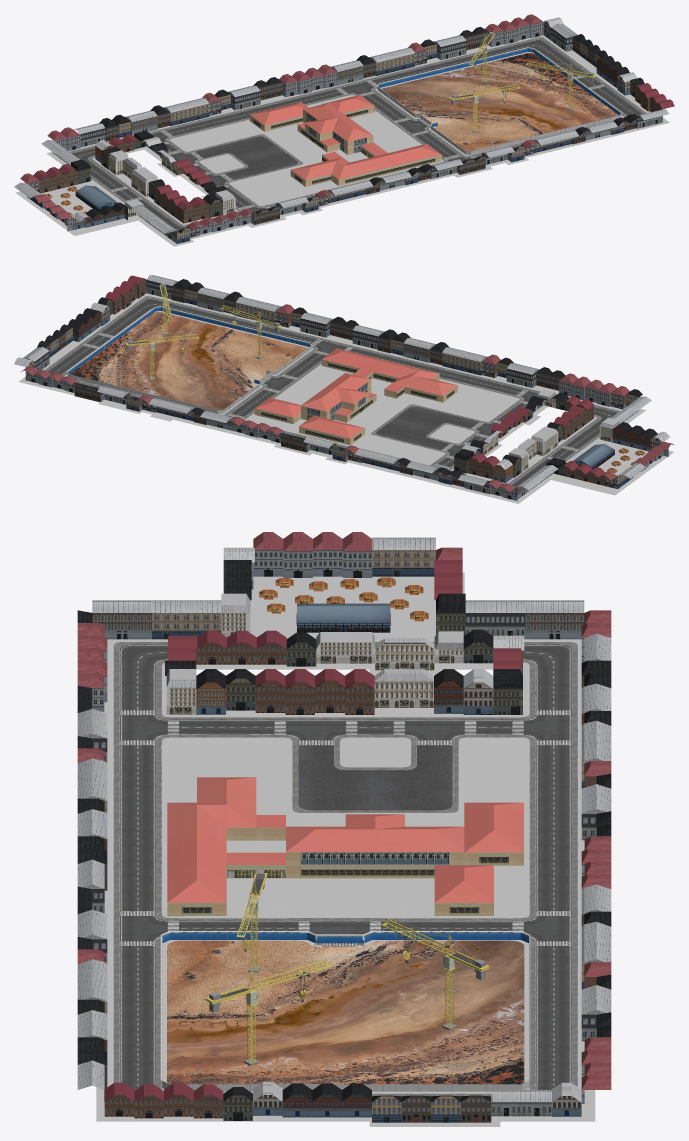
Rendered from VRTransitLevel8City12.fbx.
The picture shows the model from 3 angles, top to bottom: view 1: azimuth 30°, elevation 25°; view 2: azimuth 150°, elevation 25°; view 3: azimuth 270°, elevation 25°; orthographic projection. The views are drawn at different scales.
Visible parts, largest first — view 1: Cube.004, Plane, Plane.002, Cube.005, Plane.001, Cube.002, fence with barbwire.044, fence with barbwire.001, Crane_Cylinder.002, Crane_Cylinder, Cube.006, Crane_Cylinder.001; view 2: Cube.004, Plane, Plane.002, Cube.005, Plane.001, Cube.002, fence with barbwire.044, fence with barbwire.001, Cube.006, Crane_Cylinder.001, Crane_Cylinder.002; view 3: Plane, Cube.004, Plane.002, Cube.005, Plane.001, Cube.002, fence with barbwire.044, fence with barbwire.001, Cube.006, Crane_Cylinder, Cube.007, Crane_Cylinder.001 (+1 smaller).
Boxes of the visible parts, x1=… form: Cube.004: x1=14, y1=14, x2=674, y2=243; Plane: x1=15, y1=35, x2=669, y2=246; Plane.002: x1=381, y1=53, x2=618, y2=151; Cube.005: x1=249, y1=95, x2=441, y2=186; Plane.001: x1=170, y1=95, x2=443, y2=205; Cube.002: x1=95, y1=130, x2=235, y2=223; fence with barbwire.044: x1=377, y1=47, x2=621, y2=154; fence with barbwire.001: x1=378, y1=48, x2=620, y2=151; Crane_Cylinder.002: x1=450, y1=84, x2=520, y2=131; Crane_Cylinder: x1=525, y1=61, x2=595, y2=109; Cube.006: x1=75, y1=185, x2=117, y2=210; Crane_Cylinder.001: x1=469, y1=32, x2=494, y2=81; Cube.004: x1=14, y1=275, x2=673, y2=500; Plane: x1=19, y1=293, x2=673, y2=503; Plane.002: x1=70, y1=312, x2=307, y2=410; Cube.005: x1=254, y1=348, x2=457, y2=445; Plane.001: x1=245, y1=364, x2=519, y2=465; Cube.002: x1=454, y1=389, x2=594, y2=482; fence with barbwire.044: x1=67, y1=306, x2=311, y2=413; fence with barbwire.001: x1=67, y1=307, x2=310, y2=410; Cube.006: x1=573, y1=444, x2=614, y2=469; Crane_Cylinder.001: x1=126, y1=333, x2=199, y2=378; Crane_Cylinder.002: x1=220, y1=305, x2=281, y2=357; Plane: x1=96, y1=572, x2=595, y2=1126; Cube.004: x1=77, y1=532, x2=611, y2=1122; Plane.002: x1=167, y1=940, x2=524, y2=1084; Cube.005: x1=167, y1=777, x2=523, y2=916; Plane.001: x1=162, y1=737, x2=529, y2=918; Cube.002: x1=165, y1=629, x2=524, y2=714; fence with barbwire.044: x1=160, y1=930, x2=530, y2=1091; fence with barbwire.001: x1=162, y1=932, x2=528, y2=1083; Cube.006: x1=296, y1=603, x2=390, y2=632; Crane_Cylinder: x1=206, y1=959, x2=332, y2=1062; Cube.007: x1=259, y1=577, x2=428, y2=621; Crane_Cylinder.001: x1=380, y1=918, x2=489, y2=1027.
Bounding box in the file's own units: 90002 × 6969 × 35908.
